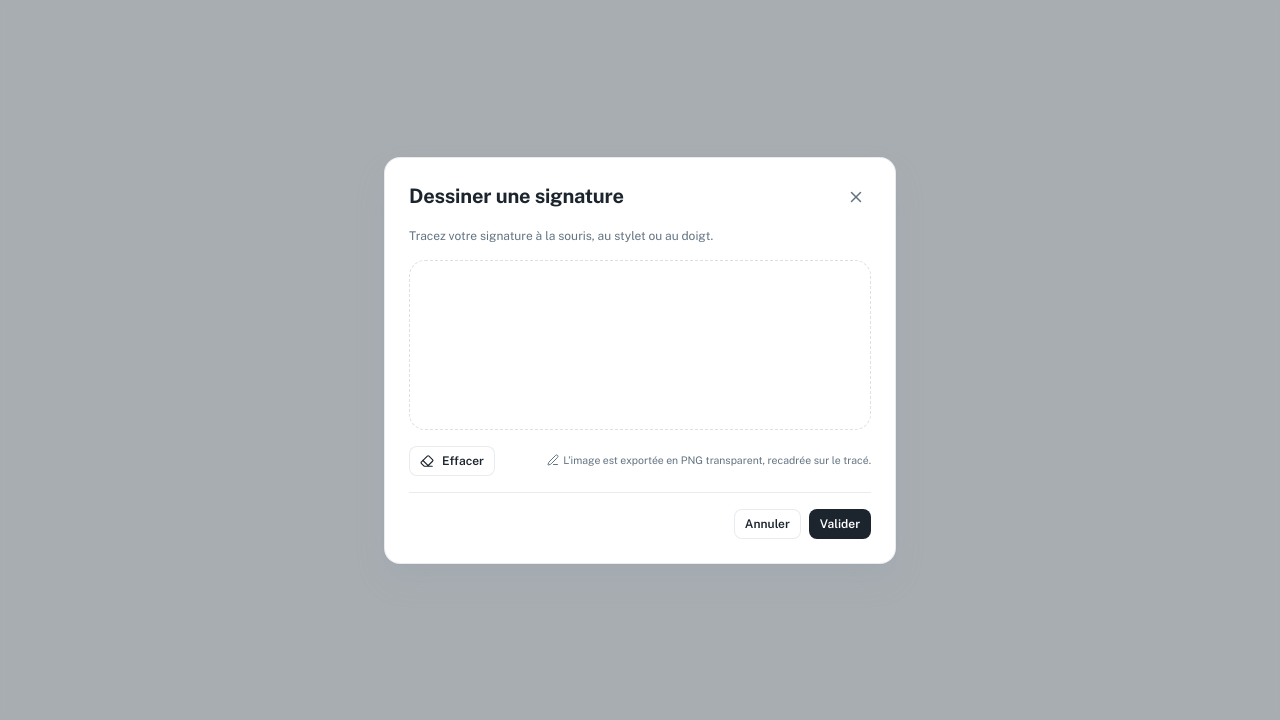
it: SignaturePadModal › clears the drawing and refuses the empty canvas
Press the mouse on the drawing named "Zone de dessin de la signature" at point(640, 344), box [414,264,866,424]
Click the button "Effacer" at point(452, 460), box [409,446,495,476]
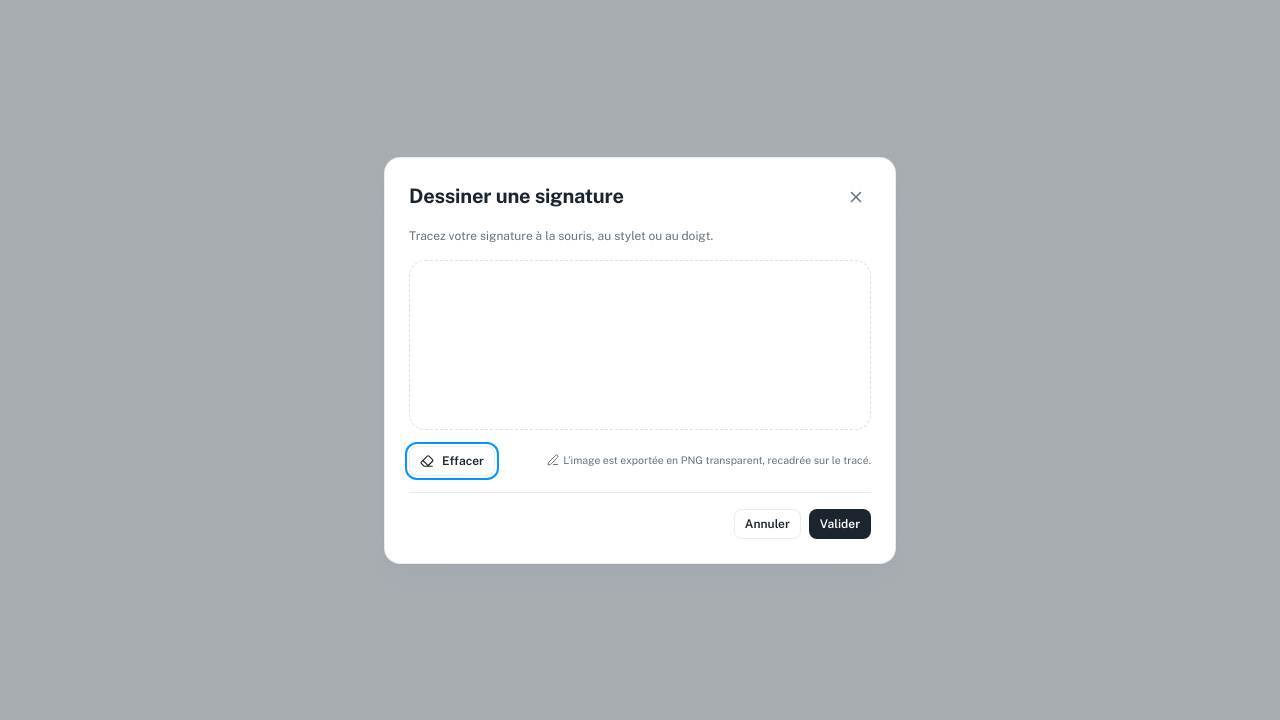
Click the button "Valider" at point(840, 524), box [809,508,871,538]
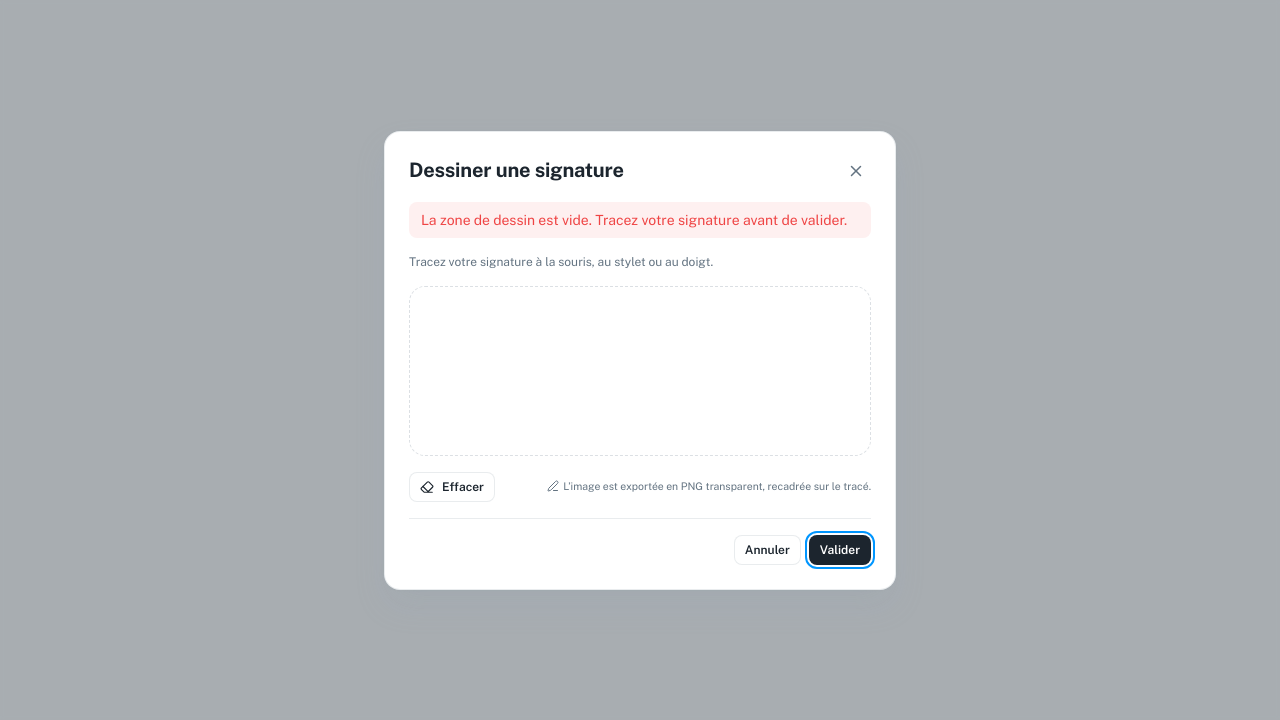
Expected: the text "La zone de dessin est vide. Tracez votre signature avant de valider." is shown, [409,202,871,238]
